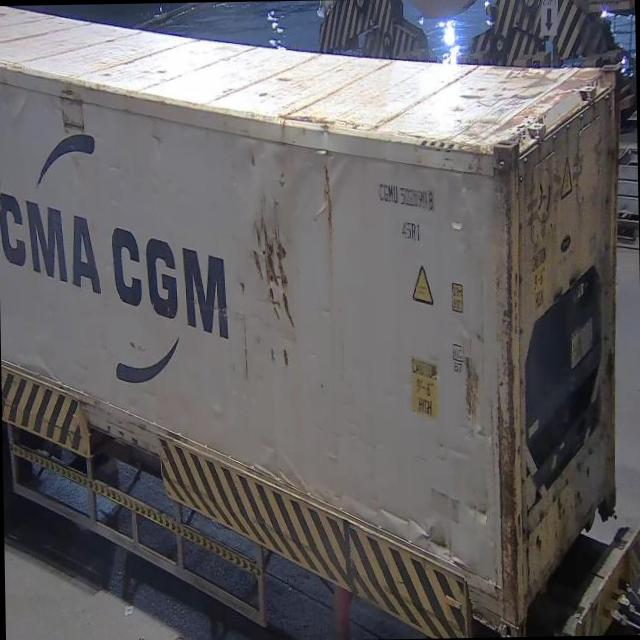Deframe_or_Dent: (244, 202, 296, 370), (314, 158, 336, 238)
Rust: (480, 119, 533, 632)
